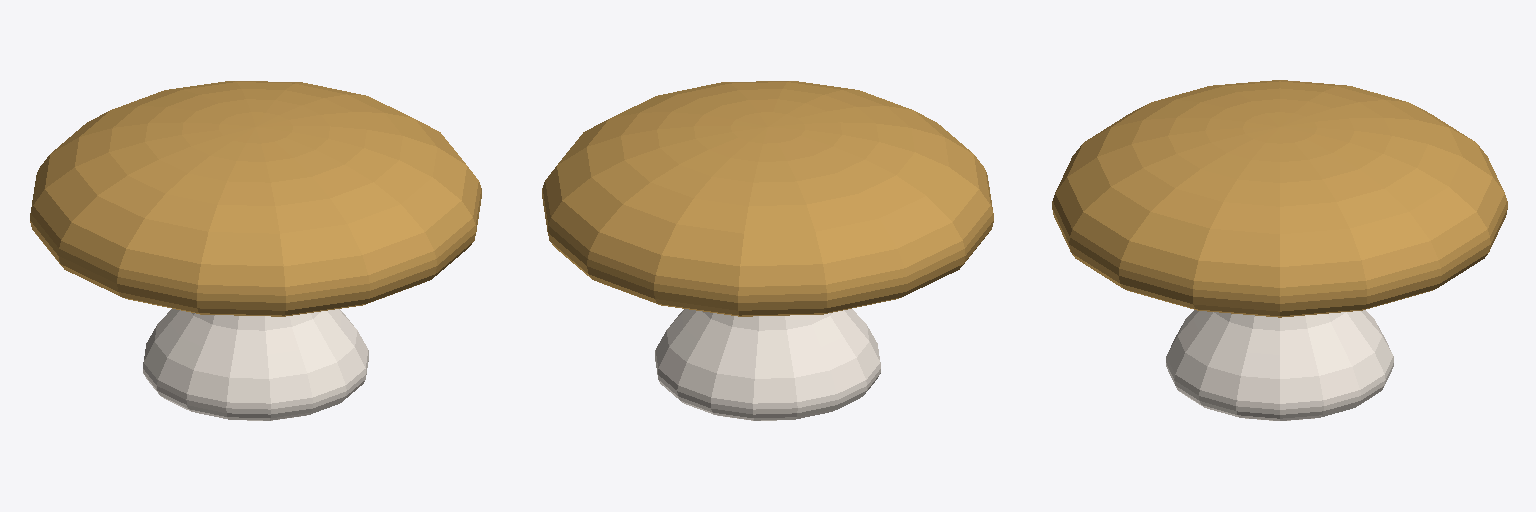
File: Prop_Mushroom_2.obj
3 renders of one model, left to right at view 1: azimuth 30°, elevation 25°; view 2: azimuth 150°, elevation 25°; view 3: azimuth 270°, elevation 25°, orthographic.
Visible parts, largest first — view 1: Mushroom_Top, Mushroom_Bottom; view 2: Mushroom_Top, Mushroom_Bottom; view 3: Mushroom_Top, Mushroom_Bottom.
Boxes of the visible parts, <box> form: Mushroom_Top: <box>30,81,481,316</box>; Mushroom_Bottom: <box>143,309,368,420</box>; Mushroom_Top: <box>542,81,993,316</box>; Mushroom_Bottom: <box>655,309,880,420</box>; Mushroom_Top: <box>1052,80,1507,317</box>; Mushroom_Bottom: <box>1166,310,1393,420</box>.
Bounding box in the file's own units: 0.9773 × 0.6094 × 0.9773.